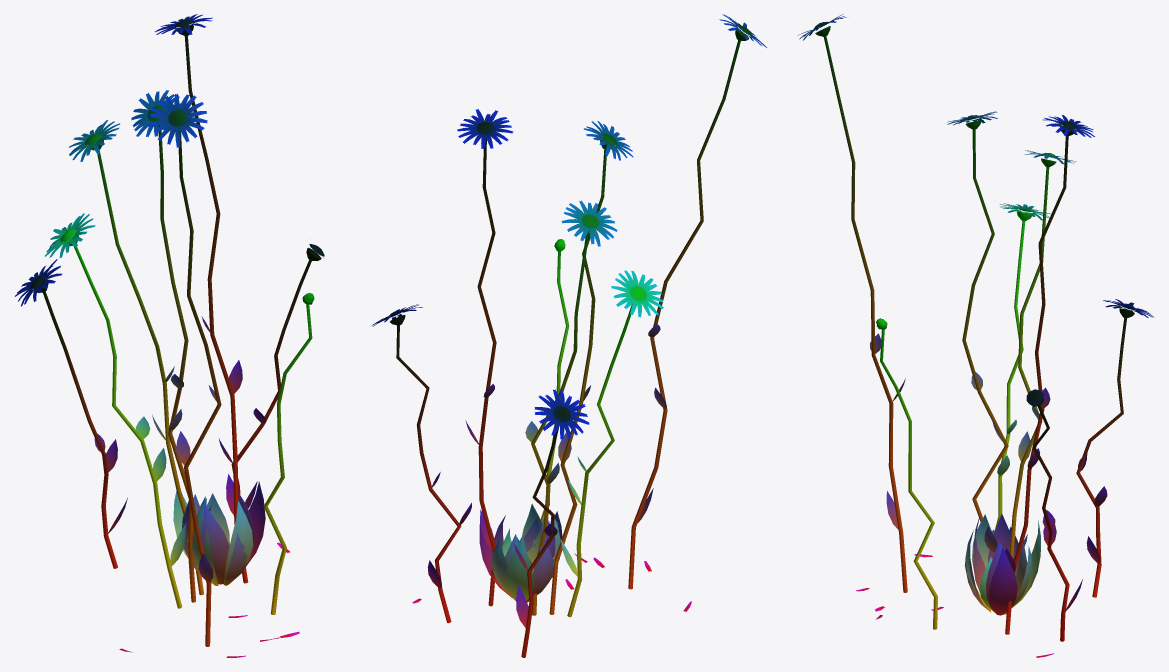
Rendered from SM_Flower_Daisy_A.fbx.
The picture shows the model from 3 angles, left to right: view 1: azimuth 30°, elevation 25°; view 2: azimuth 150°, elevation 25°; view 3: azimuth 270°, elevation 25°; orthographic projection. The views are drawn at different scales.
Visible parts, largest first — view 1: SM_Flower_Daisy_A; view 2: SM_Flower_Daisy_A; view 3: SM_Flower_Daisy_A.
Part boxes in pixels (x1,y1,x2,y2): SM_Flower_Daisy_A: (15, 14, 324, 657); SM_Flower_Daisy_A: (371, 14, 766, 657); SM_Flower_Daisy_A: (797, 14, 1154, 657).
Bounding box in the file's own units: 0.3134 × 0.5932 × 0.3526.
